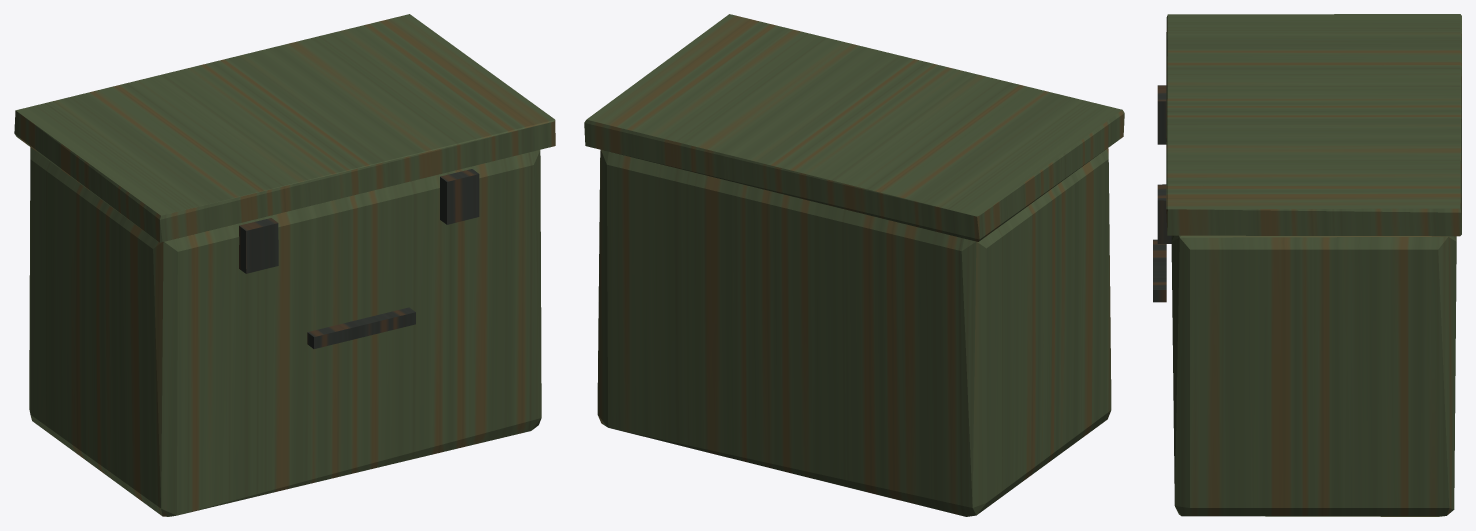
Rendered from utility-crate-lod.obj.
The picture shows the model from 3 angles, left to right: view 1: azimuth 30°, elevation 25°; view 2: azimuth 150°, elevation 25°; view 3: azimuth 270°, elevation 25°; orthographic projection.
Visible parts, largest first — view 1: utility-crate.001; view 2: utility-crate.001; view 3: utility-crate.001.
Boxes of the visible parts, <box> form: utility-crate.001: <box>14,14,555,516</box>; utility-crate.001: <box>584,14,1124,516</box>; utility-crate.001: <box>1153,14,1461,516</box>.
Size of the model in its own units: 1.38 by 1.04 by 0.9211.
1 material, 1 textured.
